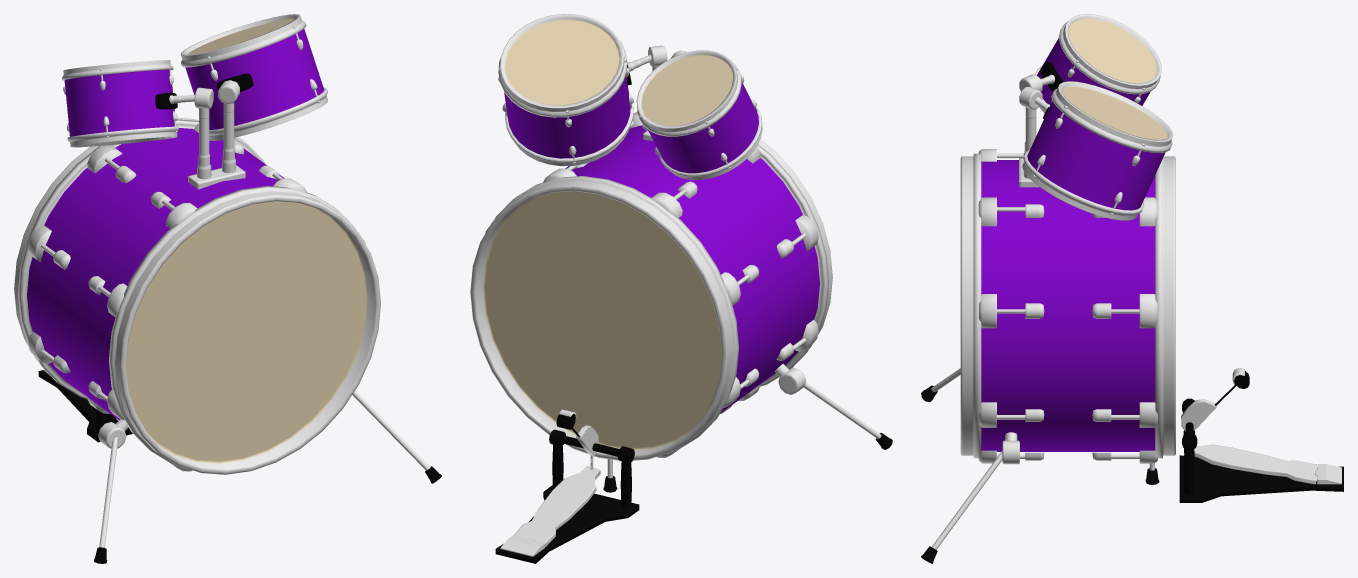
The model's file is BassDrum.fbx.
The picture shows the model from 3 angles, left to right: view 1: azimuth 30°, elevation 25°; view 2: azimuth 150°, elevation 25°; view 3: azimuth 270°, elevation 25°; orthographic projection.
Parts seen in each view (by area): view 1: BassDrum_LOD0; view 2: BassDrum_LOD0; view 3: BassDrum_LOD0.
Boxes of the visible parts, x1,y1,x2,y2 form: BassDrum_LOD0: (14,14,441,563); BassDrum_LOD0: (470,14,892,563); BassDrum_LOD0: (921,14,1343,563).
Size of what is drawn, in the model's own units: 574 by 676 by 607.
